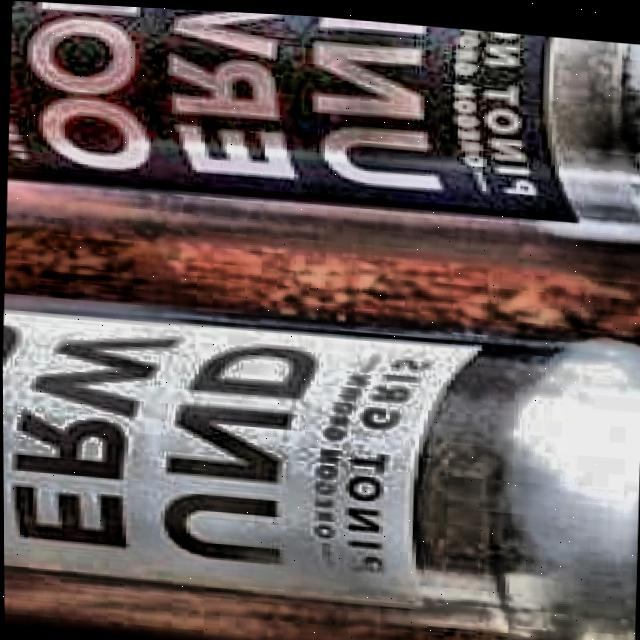metal: (2, 287, 640, 640), (3, 0, 640, 287)
